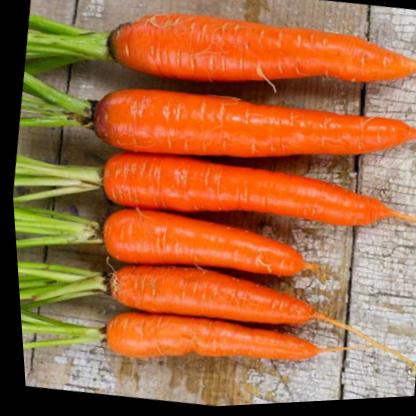--: (52, 60, 416, 201), (77, 128, 416, 259), (66, 0, 416, 126), (78, 245, 352, 352), (74, 189, 331, 297), (82, 297, 353, 398)
